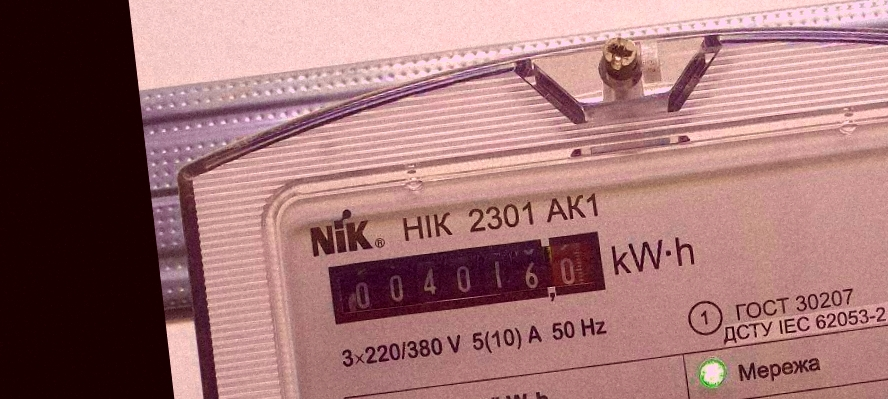0: (451, 260, 476, 297), (350, 277, 375, 312), (385, 270, 408, 306), (555, 253, 579, 287)
1: (489, 255, 508, 291)
4: (418, 263, 440, 299)
6: (519, 257, 542, 291)
screen: (320, 224, 615, 333)
